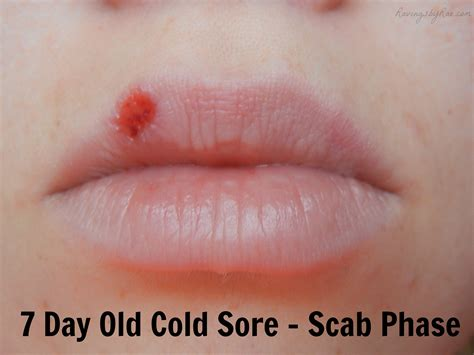Cold Sore: (106, 79, 164, 143)
